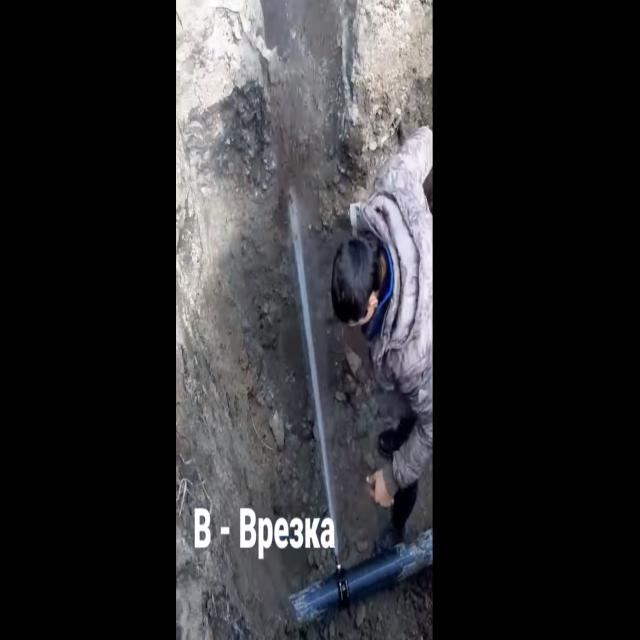leak: (289, 190, 339, 556)
